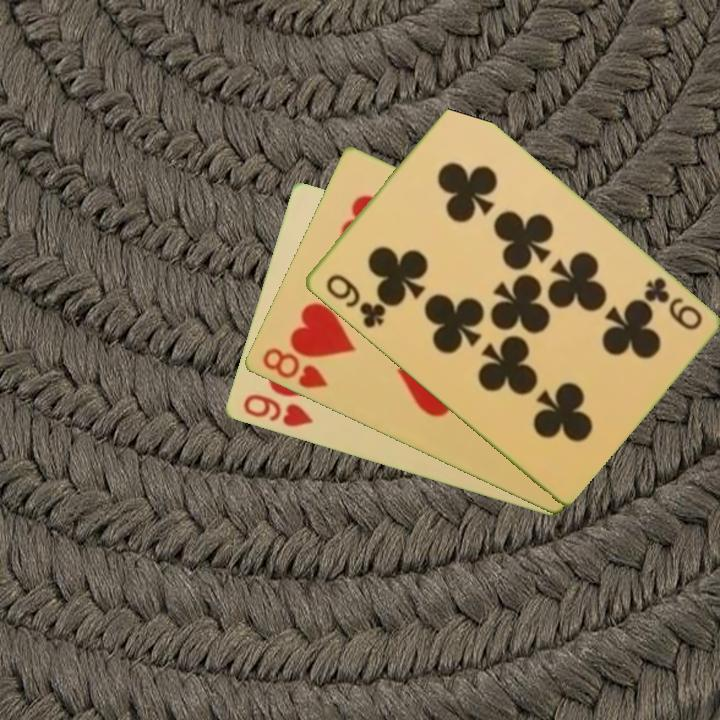8h: (258, 344, 330, 392)
9c: (322, 270, 388, 332), (639, 273, 705, 334)
9h: (239, 391, 316, 430)
